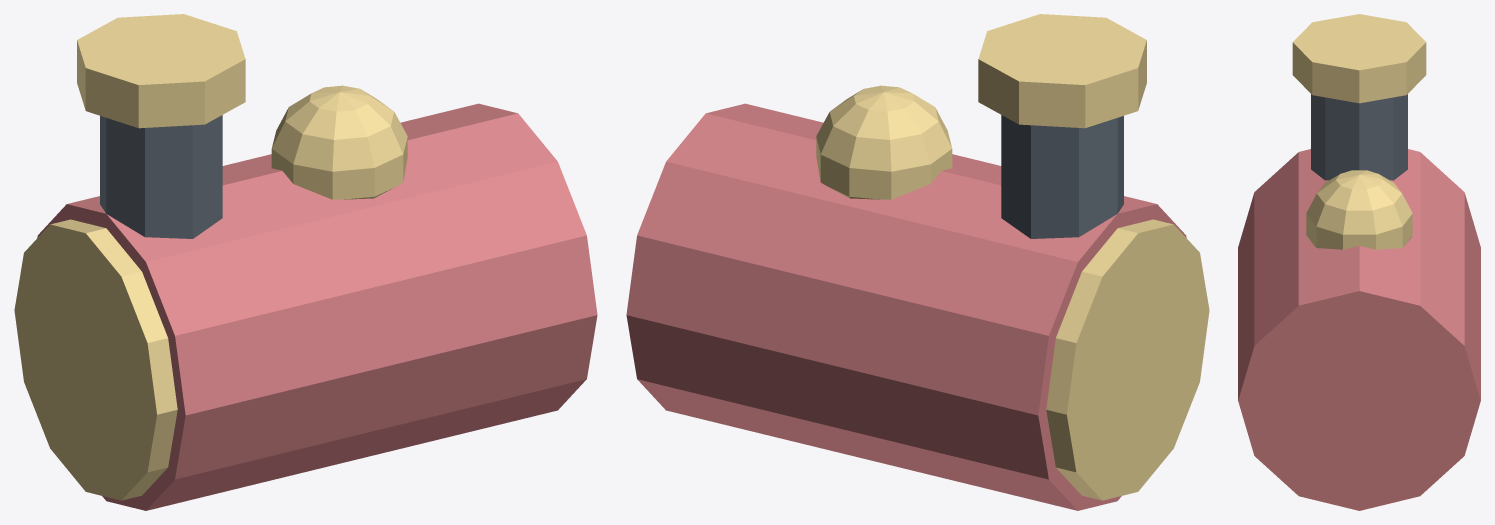
Rendered from toy_train_boiler.glb.
The picture shows the model from 3 angles, left to right: view 1: azimuth 30°, elevation 25°; view 2: azimuth 150°, elevation 25°; view 3: azimuth 270°, elevation 25°; orthographic projection. The views are drawn at different scales.
Visible parts, largest first — view 1: Boiler, Boiler front, Chimney; view 2: Boiler, Boiler front, Chimney; view 3: Boiler, Boiler front, Chimney.
Part boxes in pixels (x1,y1,x2,y2): Boiler: (37, 103, 597, 510); Boiler front: (14, 14, 407, 500); Chimney: (100, 115, 222, 238); Boiler: (626, 103, 1186, 510); Boiler front: (816, 14, 1209, 500); Chimney: (1001, 115, 1123, 238); Boiler: (1238, 149, 1480, 510); Boiler front: (1292, 14, 1426, 249); Chimney: (1311, 94, 1407, 180).
Bounding box in the file's own units: 0.315 × 0.305 × 0.2.
